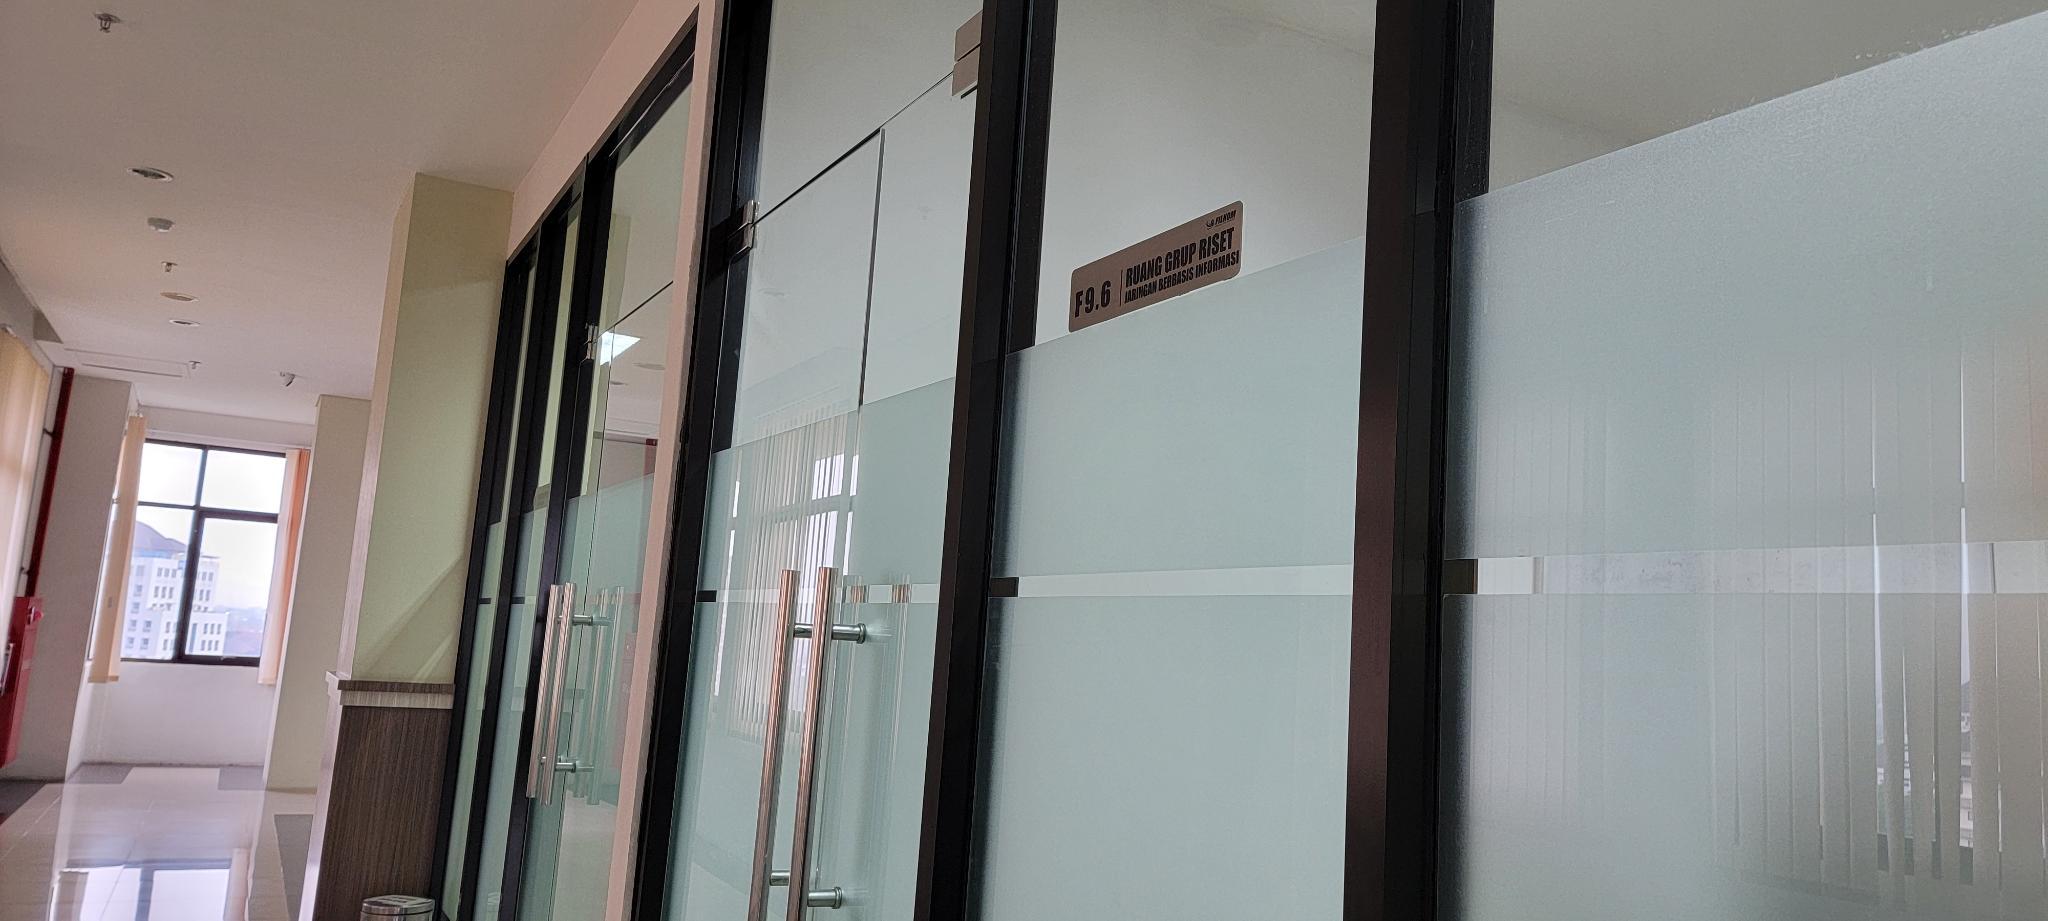plate: (1067, 197, 1246, 337)
